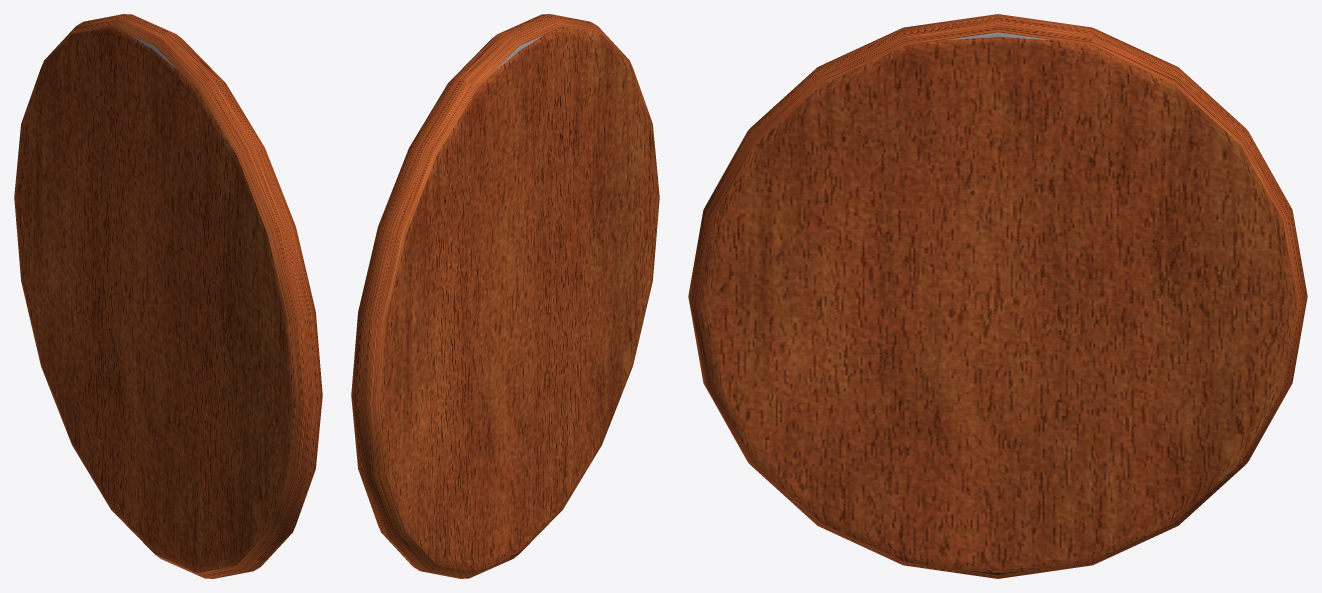
The model's file is Sign.fbx.
3 views of the same model, side by side, from view 1: azimuth 30°, elevation 25°; view 2: azimuth 150°, elevation 25°; view 3: azimuth 270°, elevation 25° (orthographic). The views are drawn at different scales.
Parts seen in each view (by area): view 1: Sign; view 2: Sign; view 3: Sign.
Boxes of the visible parts, left/top/right/bottom form: Sign: left=14, top=14, right=322, bottom=578; Sign: left=351, top=14, right=659, bottom=578; Sign: left=688, top=14, right=1307, bottom=578.
Size of the model in its own units: 13.05 by 200 by 200.
